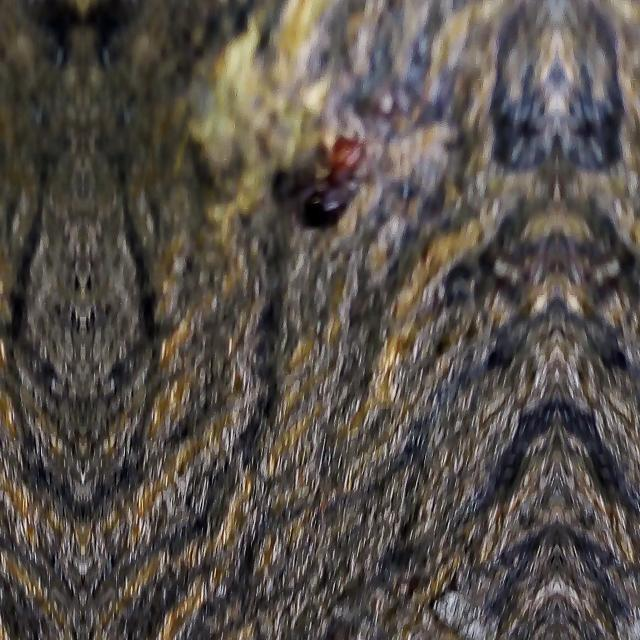Crematogaster: (294, 120, 376, 230)
